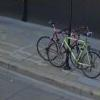Bicycle: (34, 14, 98, 84)
